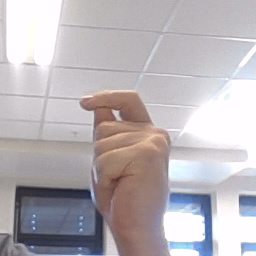T: (77, 86, 176, 224)
